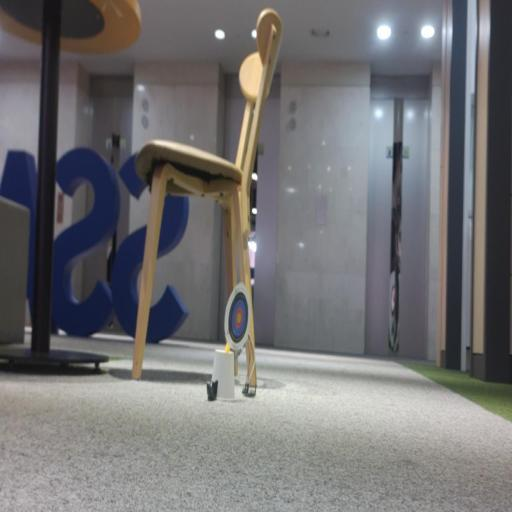target: (224, 282, 251, 351)
